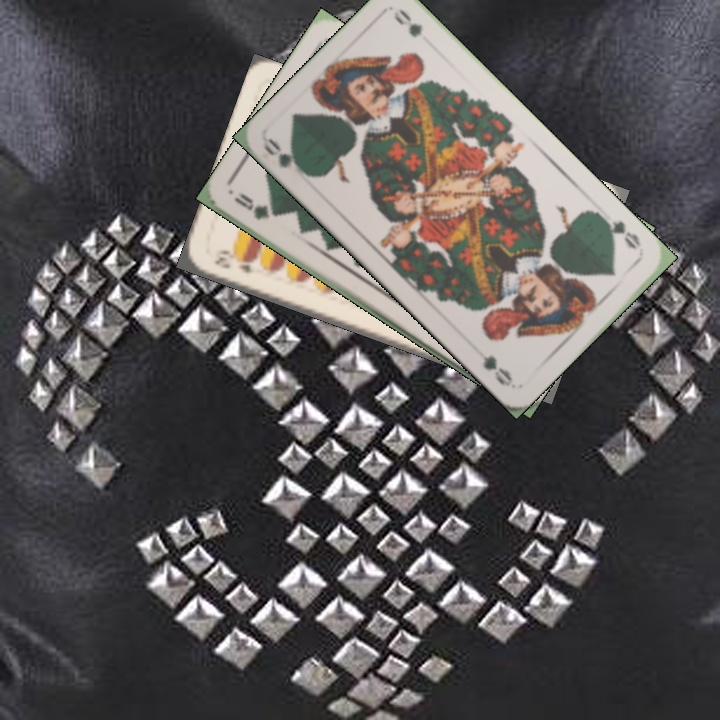E10: (210, 246, 263, 277)
G9: (230, 189, 283, 223)
GO: (259, 134, 311, 179), (598, 213, 644, 252)
